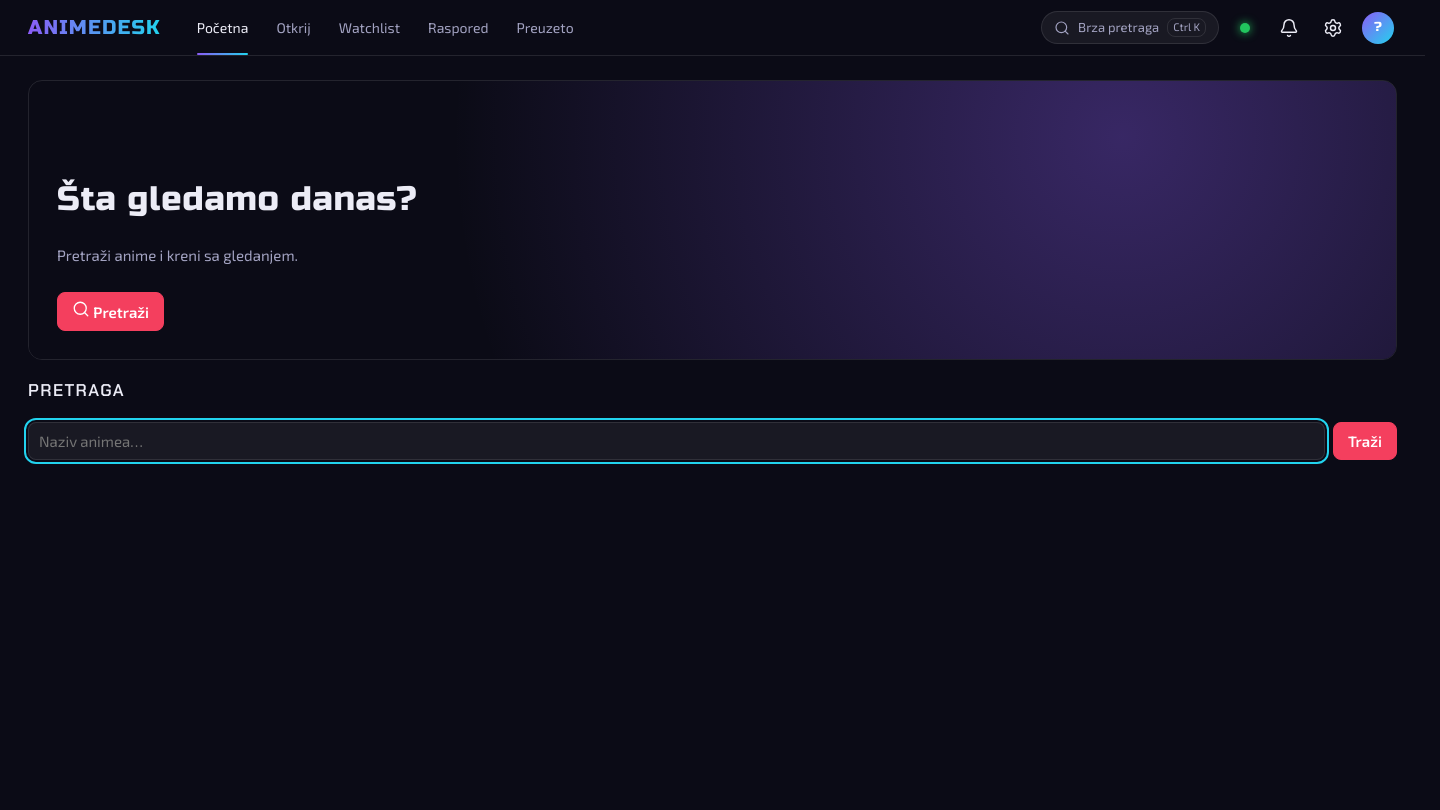
Scenario: App command palette › opens while focus is in the Home search input, which keeps its value
Check: the button named "Podešavanja" is shown, box [1315,10,1351,46]
Step 1. Type "naruto" into the field with id "search-input" → (676, 441), box [28,422,1325,460]
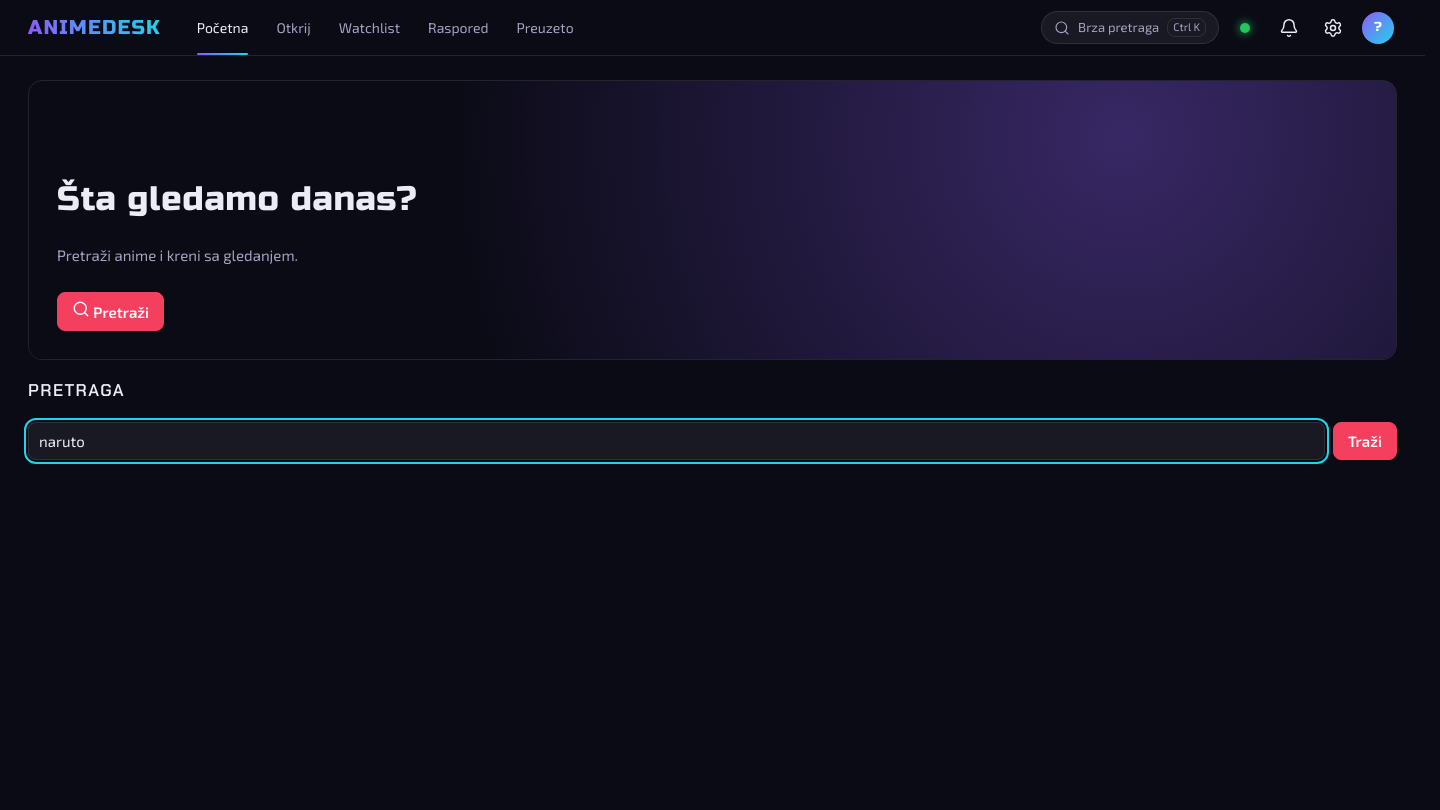
Step 2. Press k in the field with id "search-input", box [28,422,1325,460]
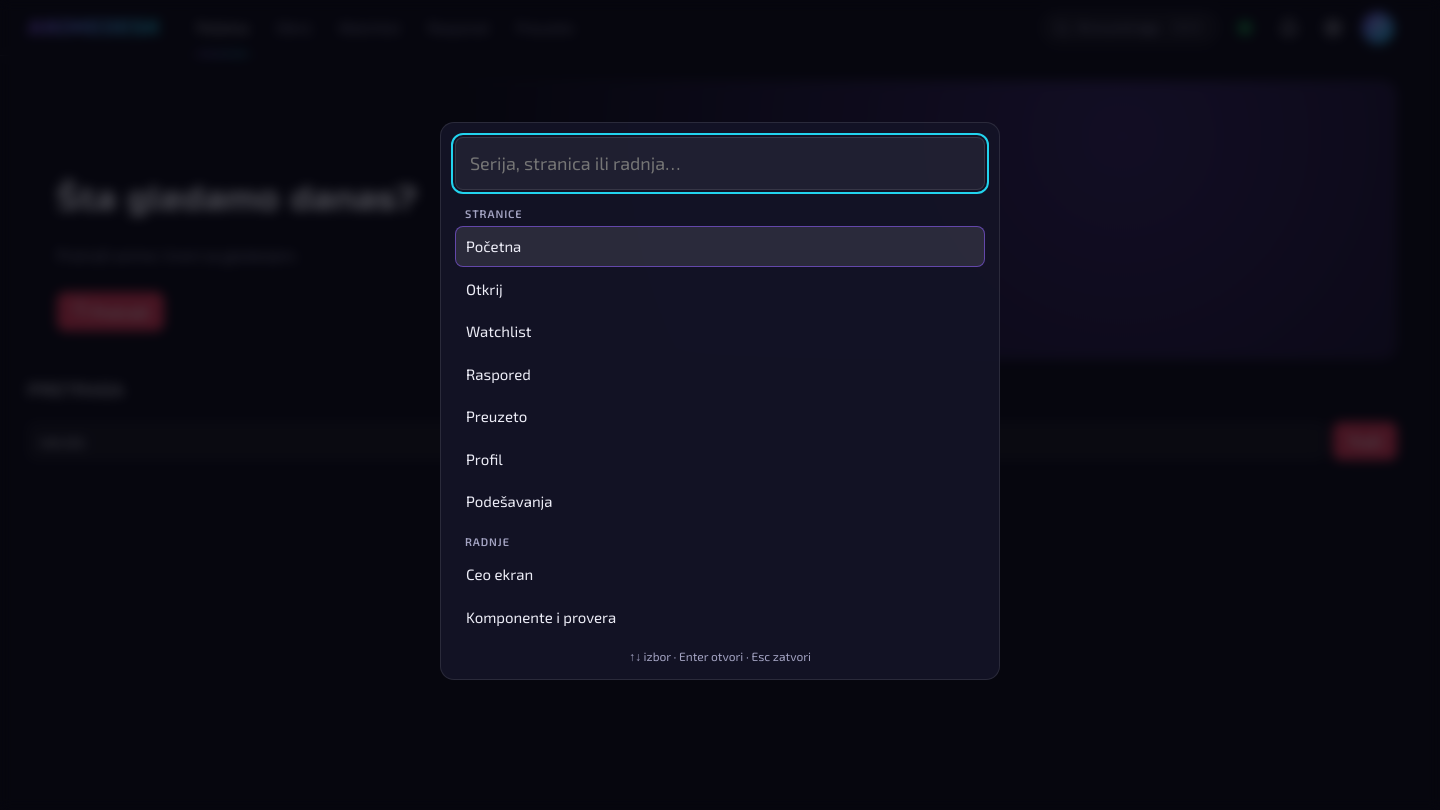
Check: the dialog named "Brza pretraga" is shown, box [440,122,1000,680]
